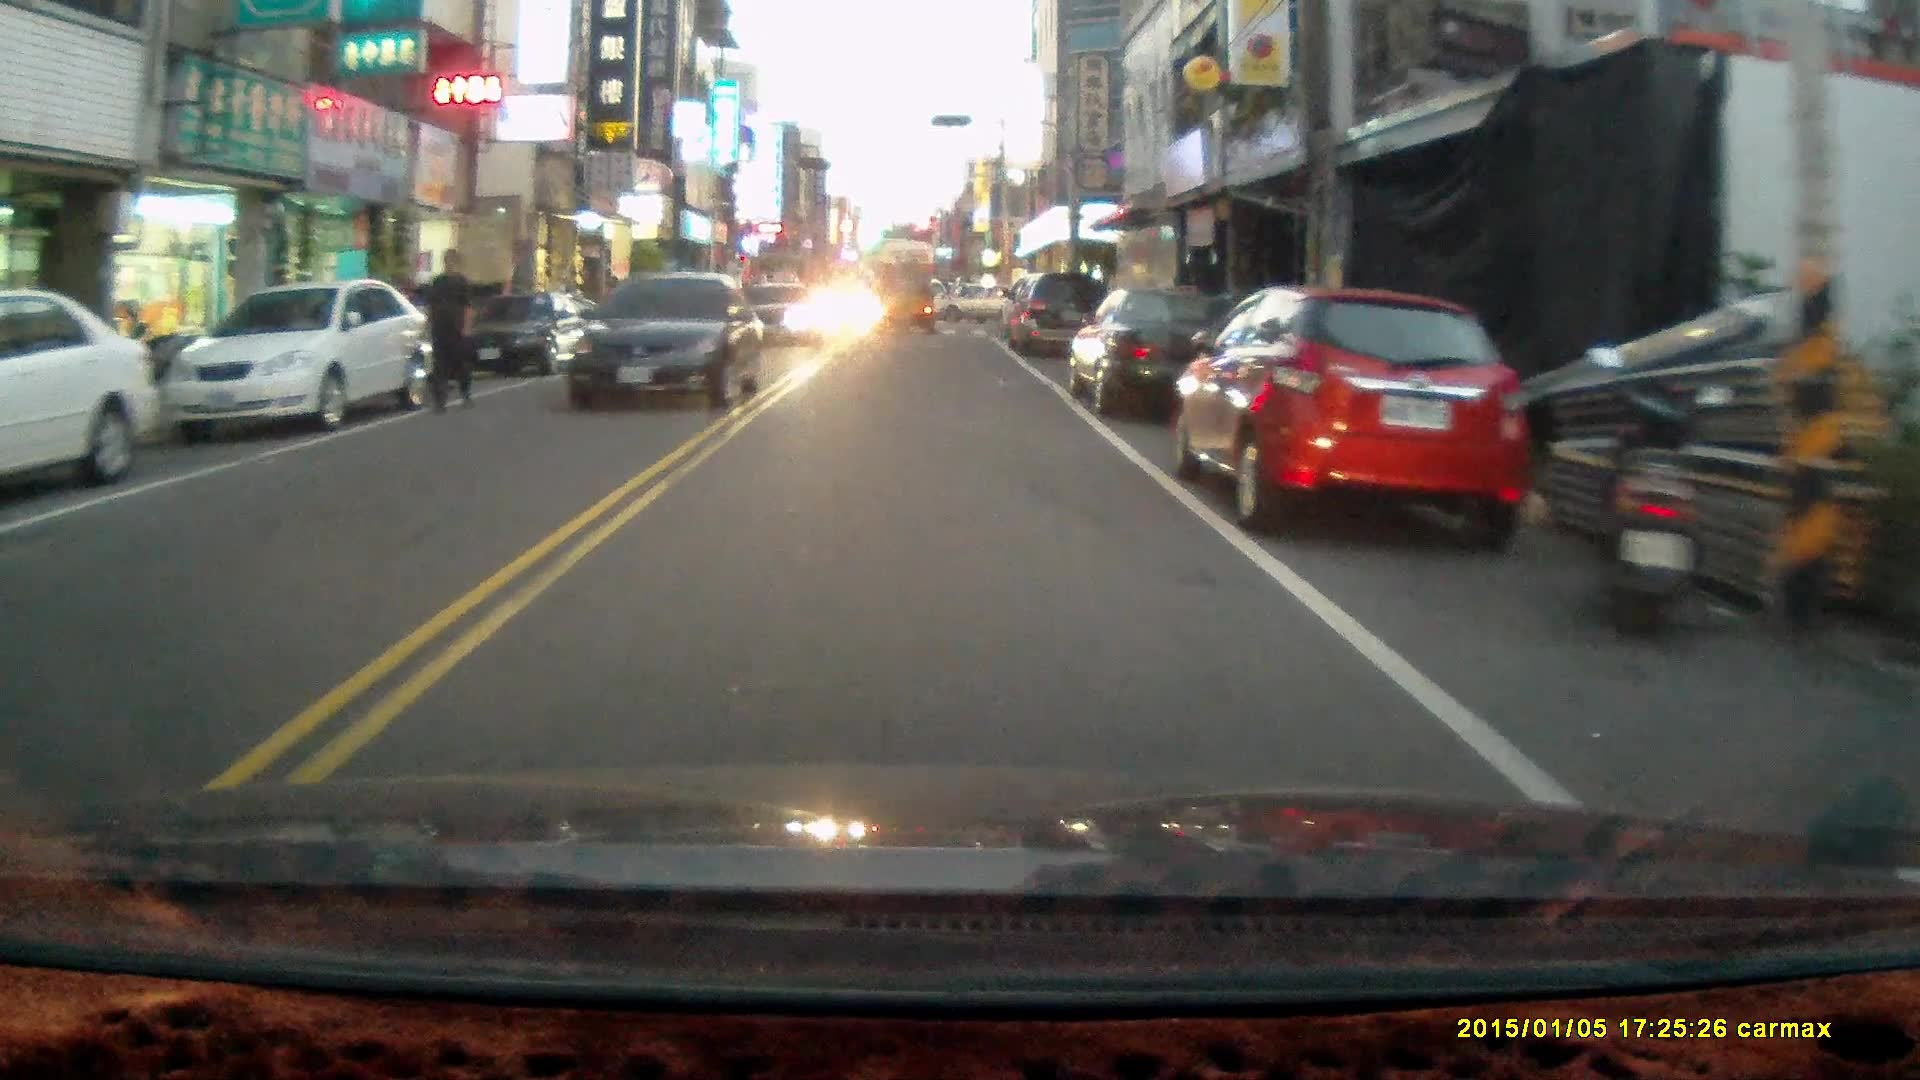pedestrian: (413, 246, 478, 416)
vehicle: (1175, 291, 1543, 547), (166, 275, 435, 432), (1, 291, 163, 505), (561, 268, 768, 410), (1067, 285, 1242, 422), (459, 289, 591, 385), (999, 269, 1117, 361), (871, 264, 938, 337)
